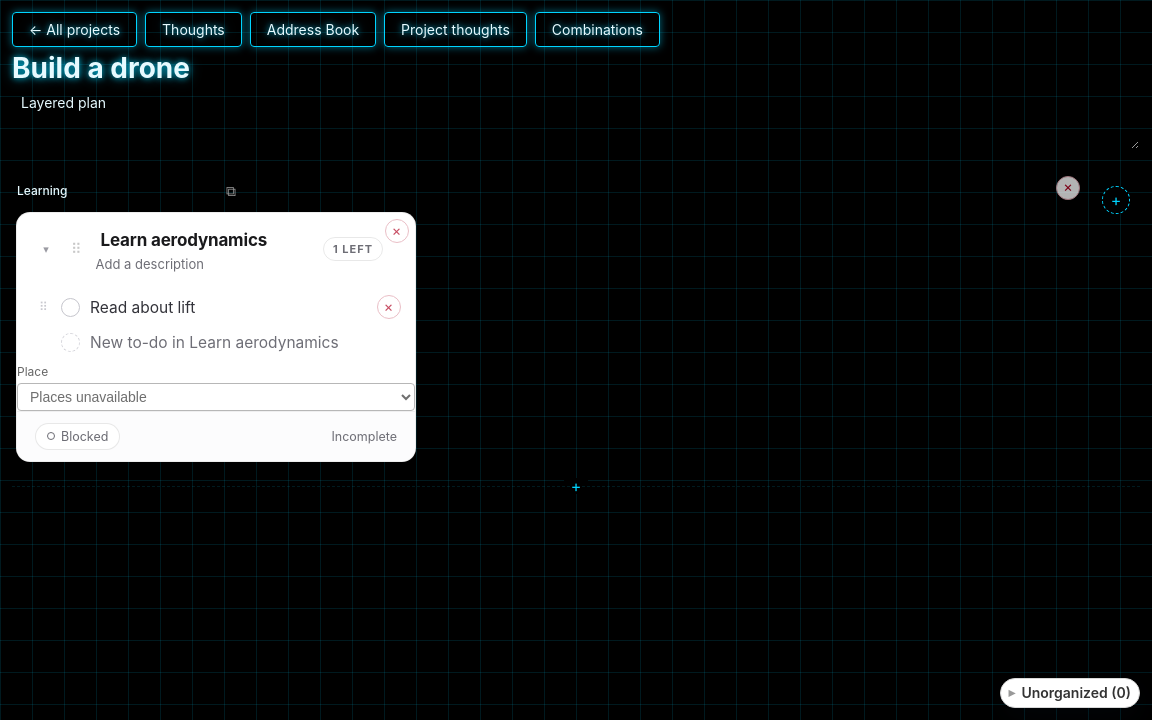
it: ProjectPage › rolls a failed mutation back and says so, until dismissed
Check: the field showing "Learn aerodynamics" is shown, box [96,227,313,254]
Click the button named "Add a layer below Learning".
click(576, 486)  # box [12,474,1140,498]
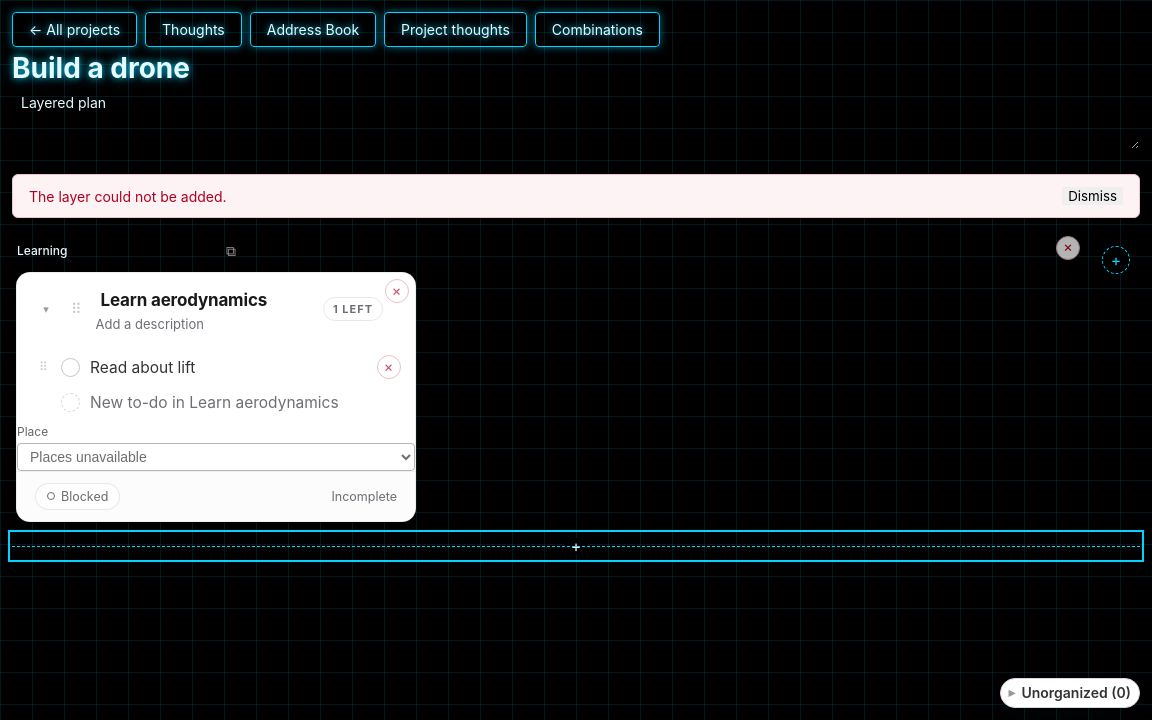
Check: the message shows "The layer could not be added.", box [29,188,227,204]
Click the button "Dismiss".
click(1093, 196)  # box [1062,187,1123,205]
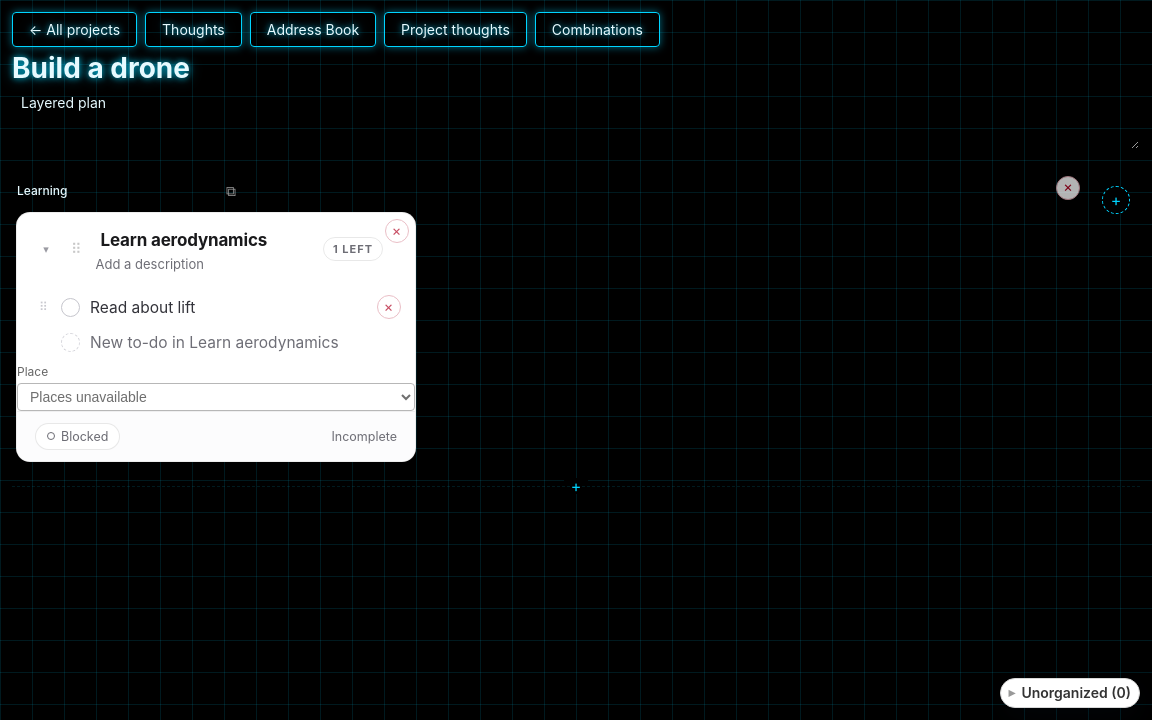
Check: the message "The layer could not be added. Dismiss" is gone
